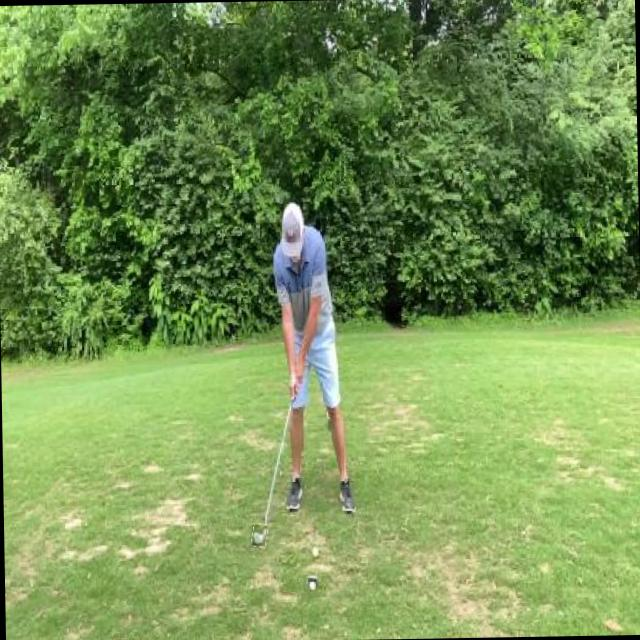club head: (251, 524, 267, 546)
